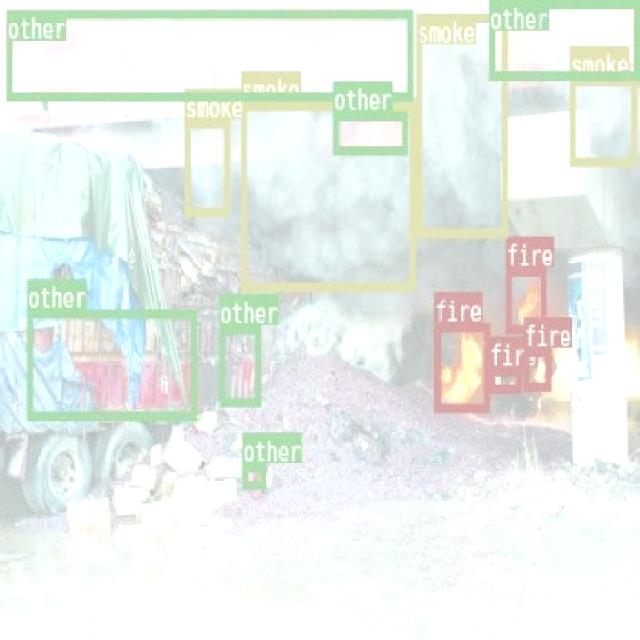fire: (432, 322, 490, 410), (506, 266, 546, 332), (522, 348, 550, 390), (488, 366, 521, 391)
smoke: (240, 100, 414, 288), (416, 13, 506, 236), (568, 74, 636, 164), (183, 118, 229, 215)
